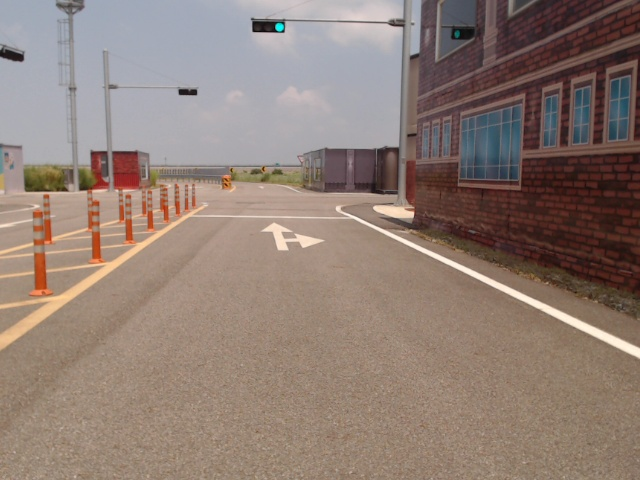green_3: (252, 21, 286, 33)
